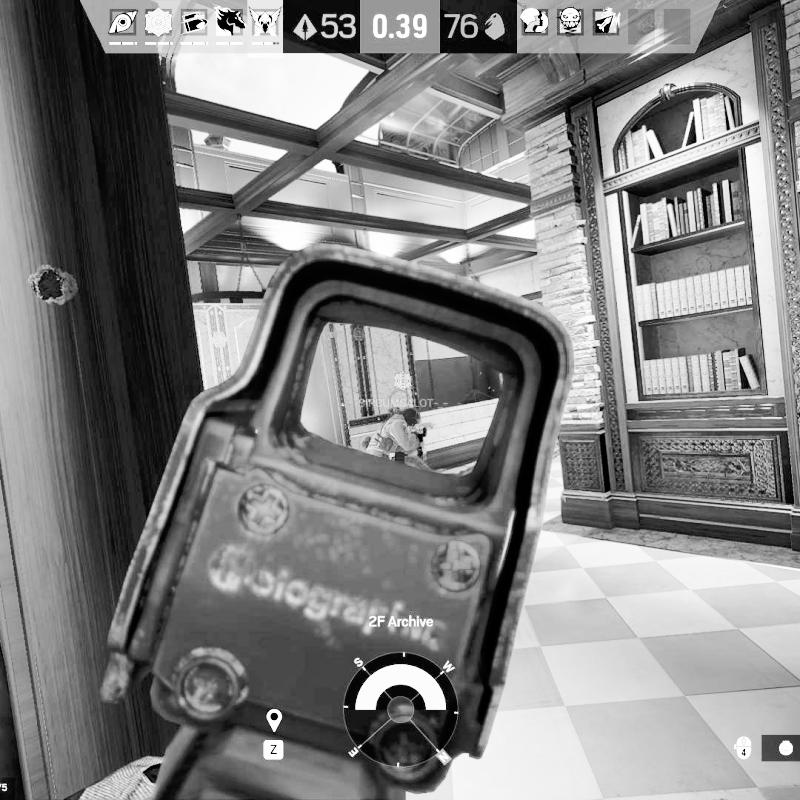Character: (362, 405, 432, 472)
Friend_label: (358, 371, 450, 411)
Head: (401, 406, 423, 428)
